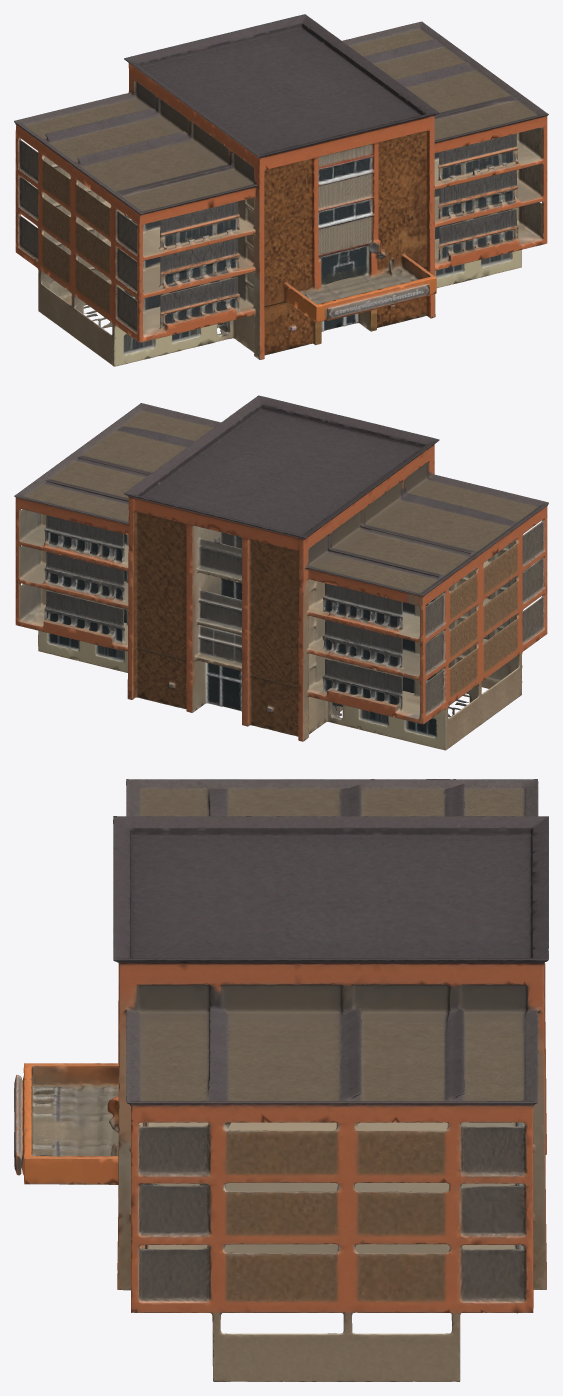
Rendered from bid_1.glb.
The picture shows the model from 3 angles, top to bottom: view 1: azimuth 30°, elevation 25°; view 2: azimuth 150°, elevation 25°; view 3: azimuth 270°, elevation 25°; orthographic projection. The views are drawn at different scales.
Visible parts, largest first — view 1: mesh_node; view 2: mesh_node; view 3: mesh_node.
Part boxes in pixels (left/top/right/bottom): mesh_node: left=14, top=14, right=548, bottom=366; mesh_node: left=14, top=395, right=548, bottom=750; mesh_node: left=14, top=779, right=548, bottom=1381.
Bounding box in the file's own units: 1.9 × 0.9149 × 1.33.
Materials: 1 (1 with a texture image).
